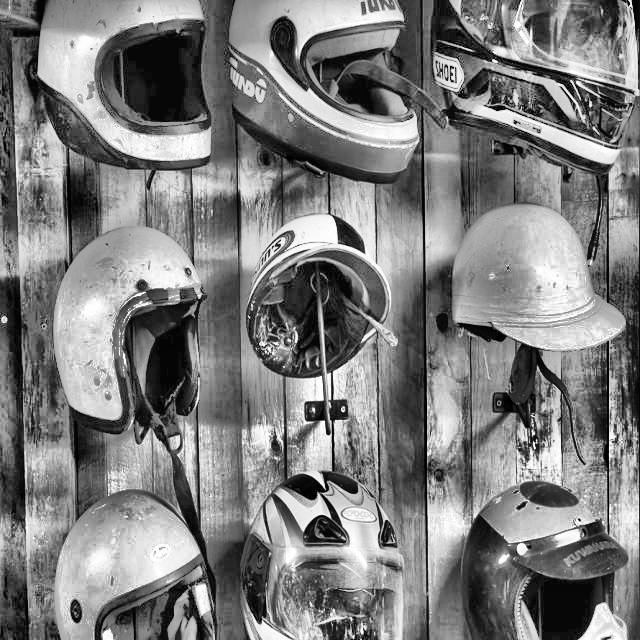Helmet: (43, 216, 208, 461)
